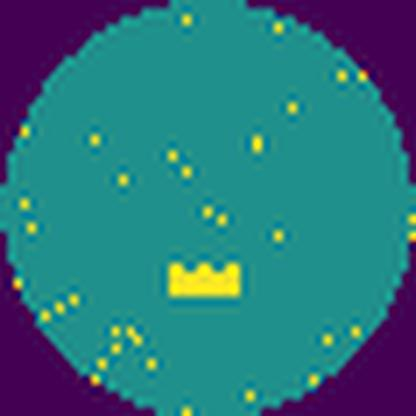Loc: (165, 258, 244, 297)
